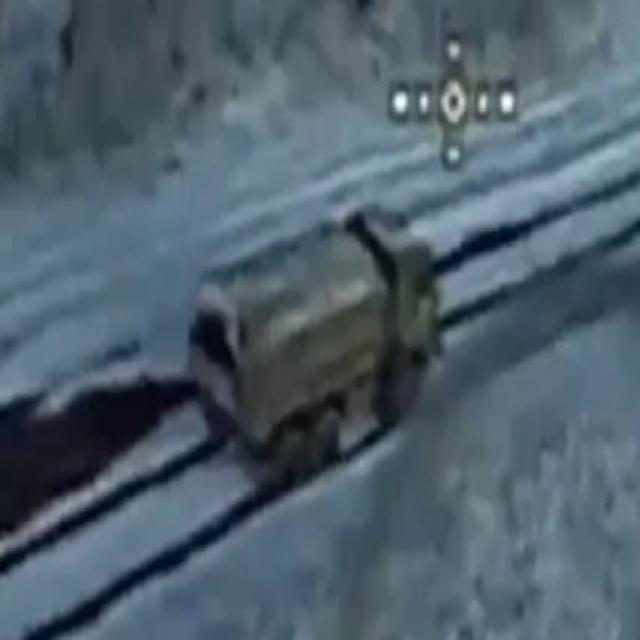TRUCK: (172, 196, 436, 466)
